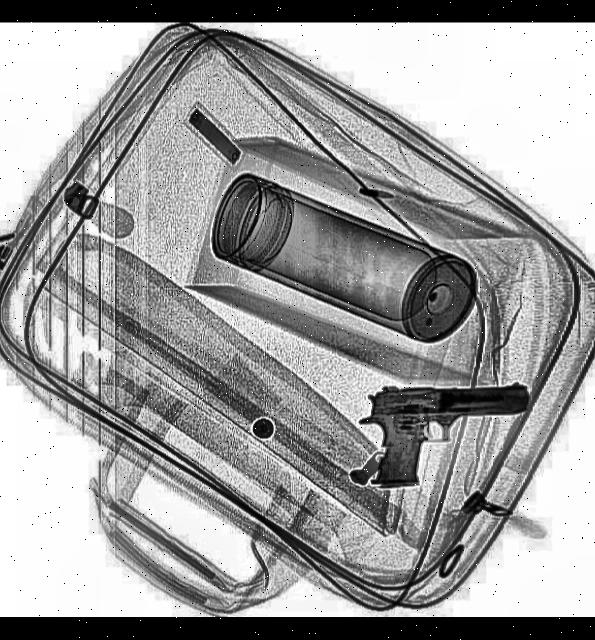Gun: (358, 382, 534, 488)
